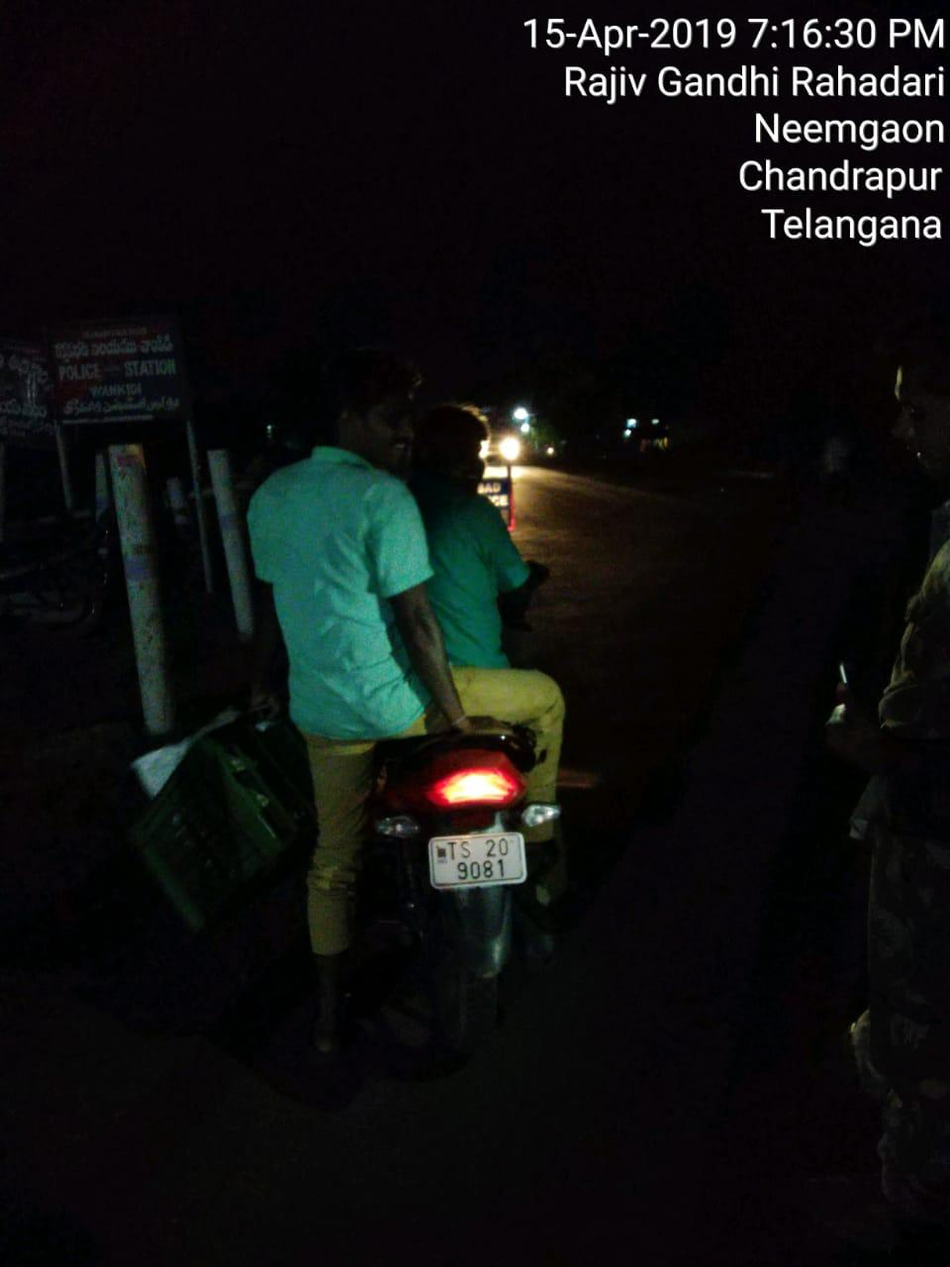plate: (422, 815, 543, 904)
